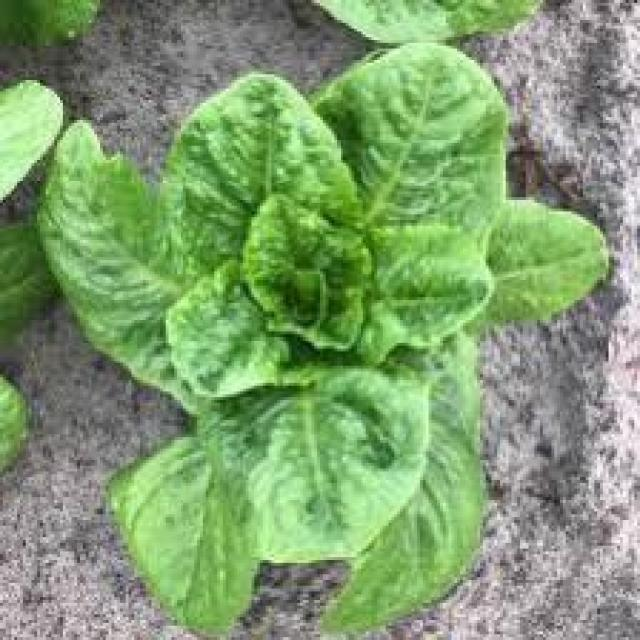Lettuce: (56, 43, 546, 607)
